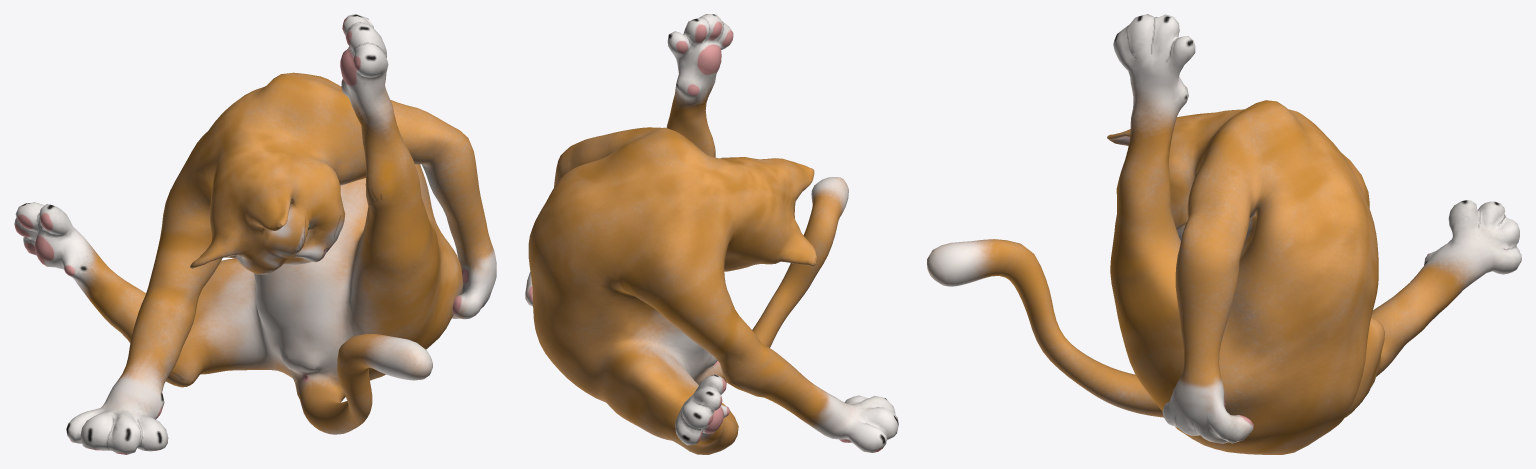
The model's file is cat8T.obj.
The picture shows the model from 3 angles, left to right: view 1: azimuth 30°, elevation 25°; view 2: azimuth 150°, elevation 25°; view 3: azimuth 270°, elevation 25°; orthographic projection. The views are drawn at different scales.
Visible parts, largest first — view 1: defaultMaterial; view 2: defaultMaterial; view 3: defaultMaterial.
Part boxes in pixels (left/top/right/bottom): defaultMaterial: left=14, top=14, right=496, bottom=454; defaultMaterial: left=525, top=14, right=898, bottom=454; defaultMaterial: left=927, top=14, right=1521, bottom=454.
Bounding box in the file's own units: 1.68 × 1.55 × 2.
